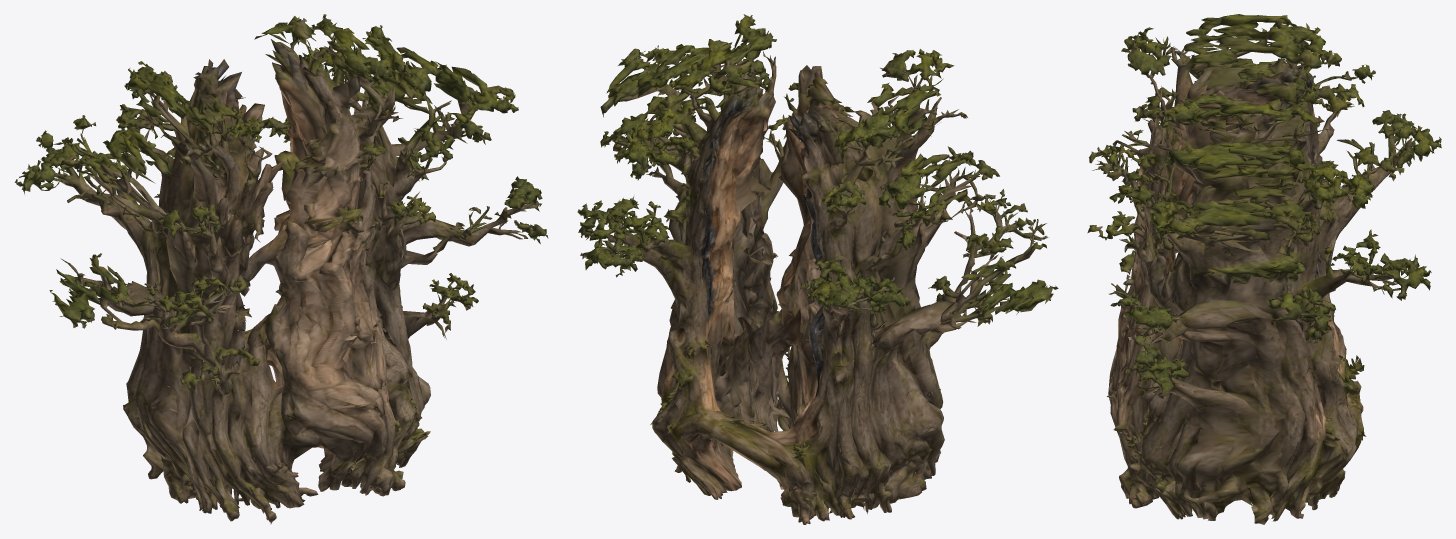
File: stormheart_hero.glb
3 renders of one model, left to right at view 1: azimuth 30°, elevation 25°; view 2: azimuth 150°, elevation 25°; view 3: azimuth 270°, elevation 25°, orthographic.
Visible parts, largest first — view 1: StormheartLivingBarkAndCrown; view 2: StormheartLivingBarkAndCrown; view 3: StormheartLivingBarkAndCrown.
Boxes of the visible parts, x1,y1,x2,y2 form: StormheartLivingBarkAndCrown: (14, 14, 548, 524); StormheartLivingBarkAndCrown: (577, 14, 1058, 524); StormheartLivingBarkAndCrown: (1087, 14, 1441, 524).
Size of the model in its own units: 333 by 300 by 228.
1 material, 1 textured.
